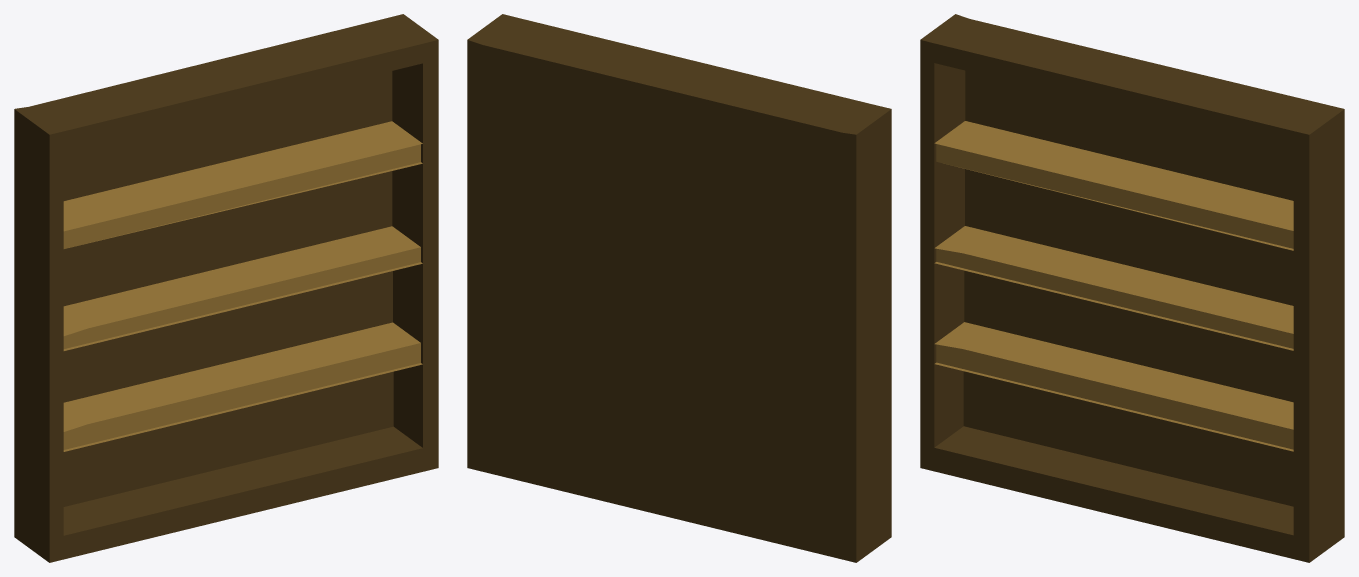
File: Shelf.fbx
3 views of the same model, side by side, from view 1: azimuth 30°, elevation 25°; view 2: azimuth 150°, elevation 25°; view 3: azimuth 330°, elevation 25° (orthographic).
Visible parts, largest first — view 1: Shelf.002; view 2: Shelf.002; view 3: Shelf.002.
Part boxes in pixels (x1,y1,x2,y2): Shelf.002: [14, 14, 438, 562]; Shelf.002: [467, 14, 891, 562]; Shelf.002: [920, 14, 1344, 562].
Bounding box in the file's own units: 804 × 845 × 126.
